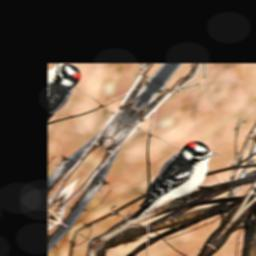Woodpecker: (121, 134, 227, 239)
